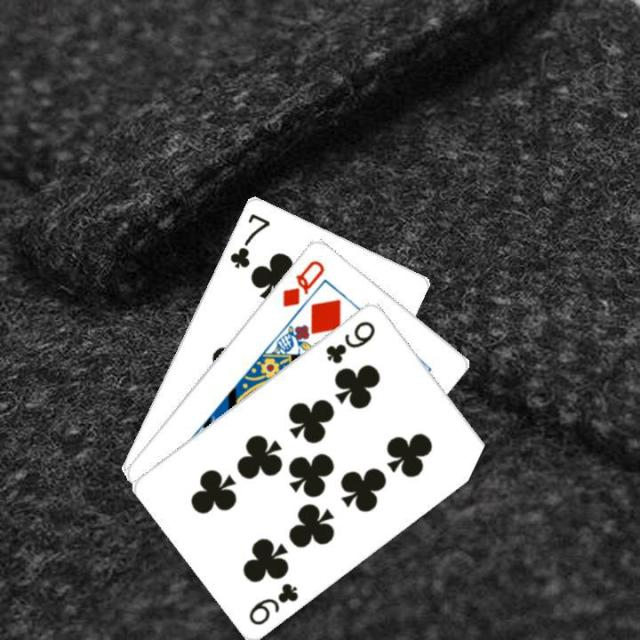7C: (226, 209, 272, 270)
9C: (321, 316, 378, 366), (244, 578, 300, 626)
QD: (278, 255, 326, 309)
